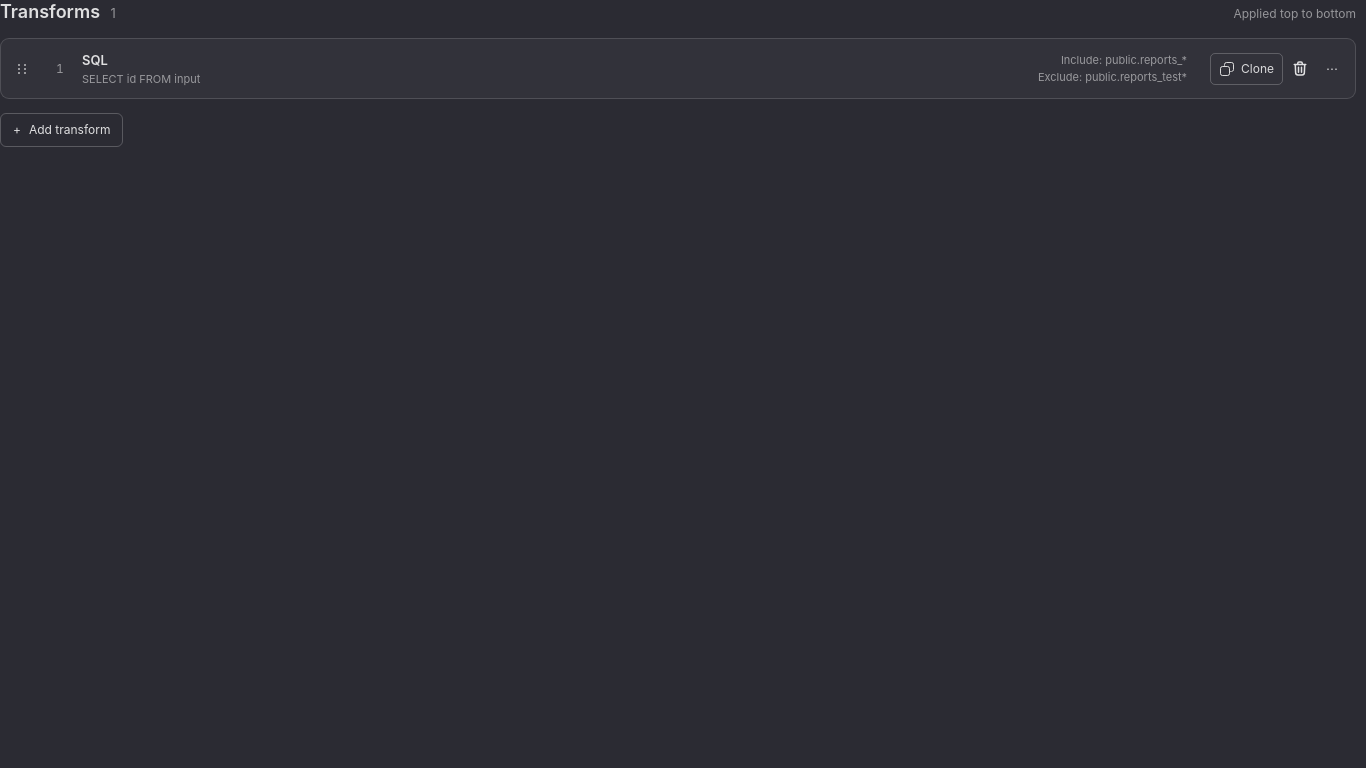
ordered transform strips › sets a name through the overflow menu without opening settings or changing the action
The image size is (1366, 768).
Click the button named "Actions for transform 1" at (1332, 69), box x1=1317 y1=53 x2=1347 y2=85
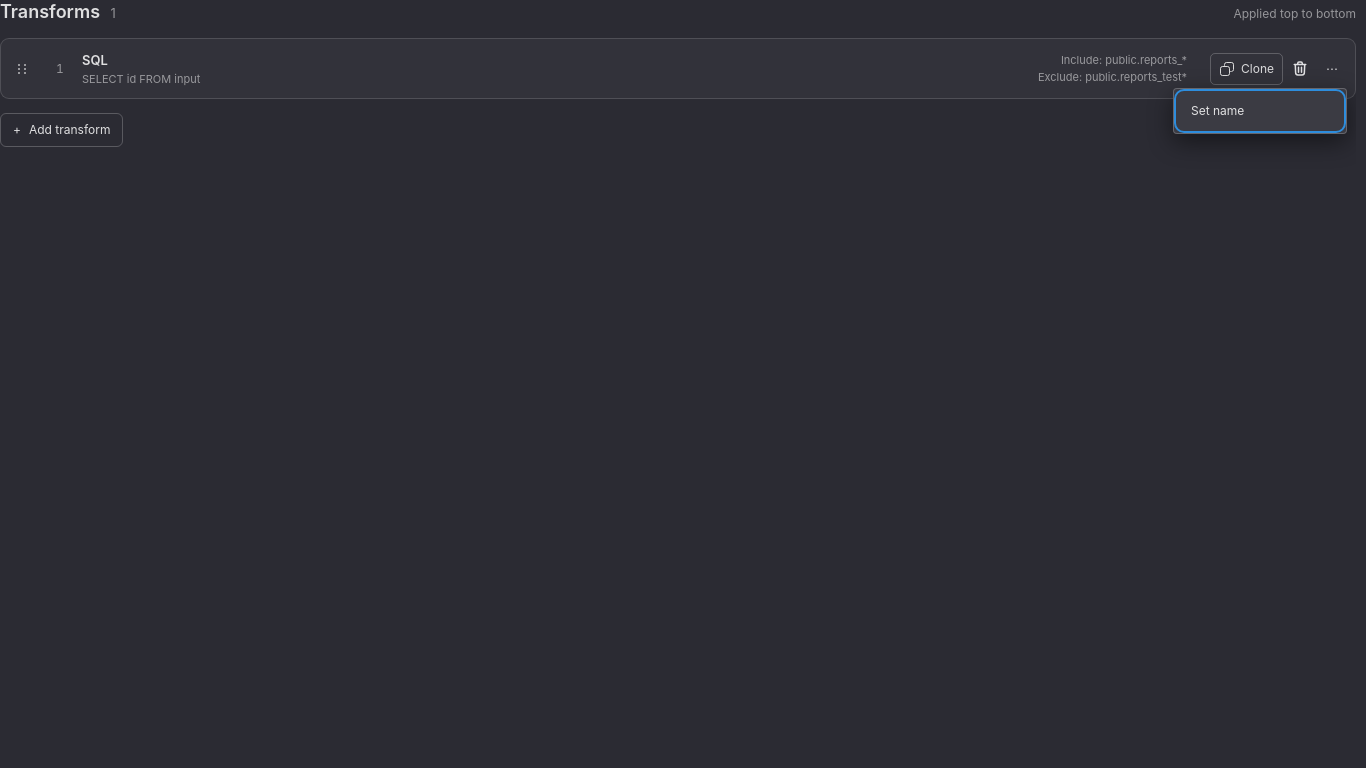
Click the menu item "Set name" at (1260, 111), box x1=1178 y1=93 x2=1342 y2=129
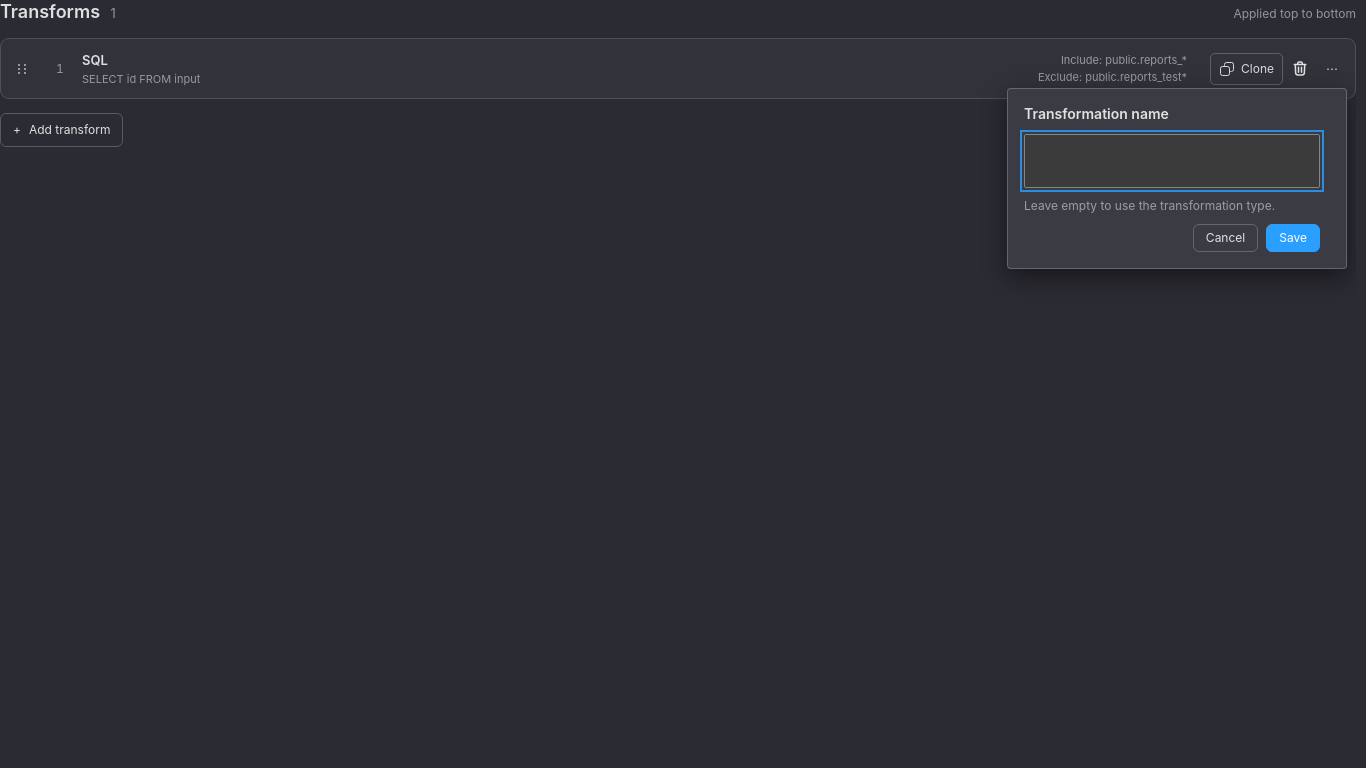
Type "  Подготовка событий  " into the text box labelled "Transformation name" at (1172, 161), box x1=1024 y1=134 x2=1320 y2=188
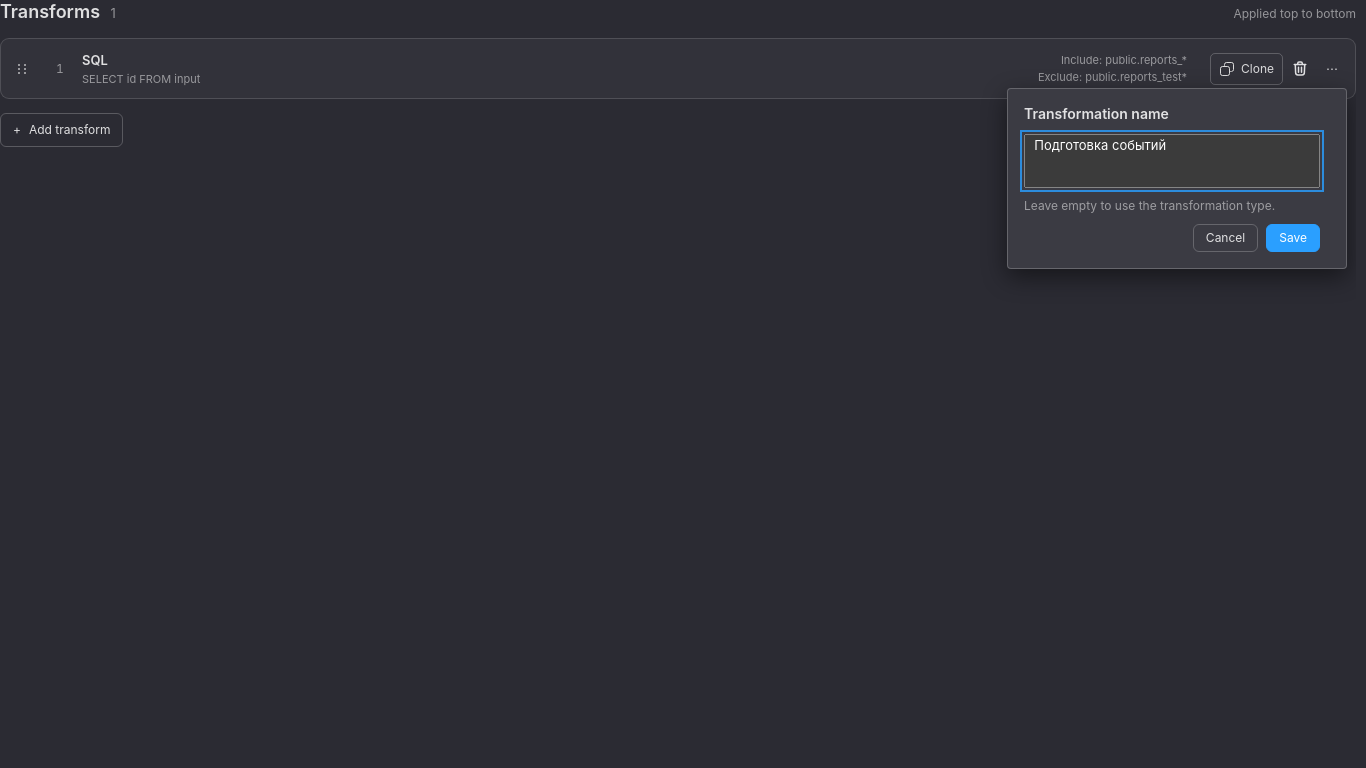
Click the button "Save" at (1293, 238), box x1=1266 y1=224 x2=1320 y2=252
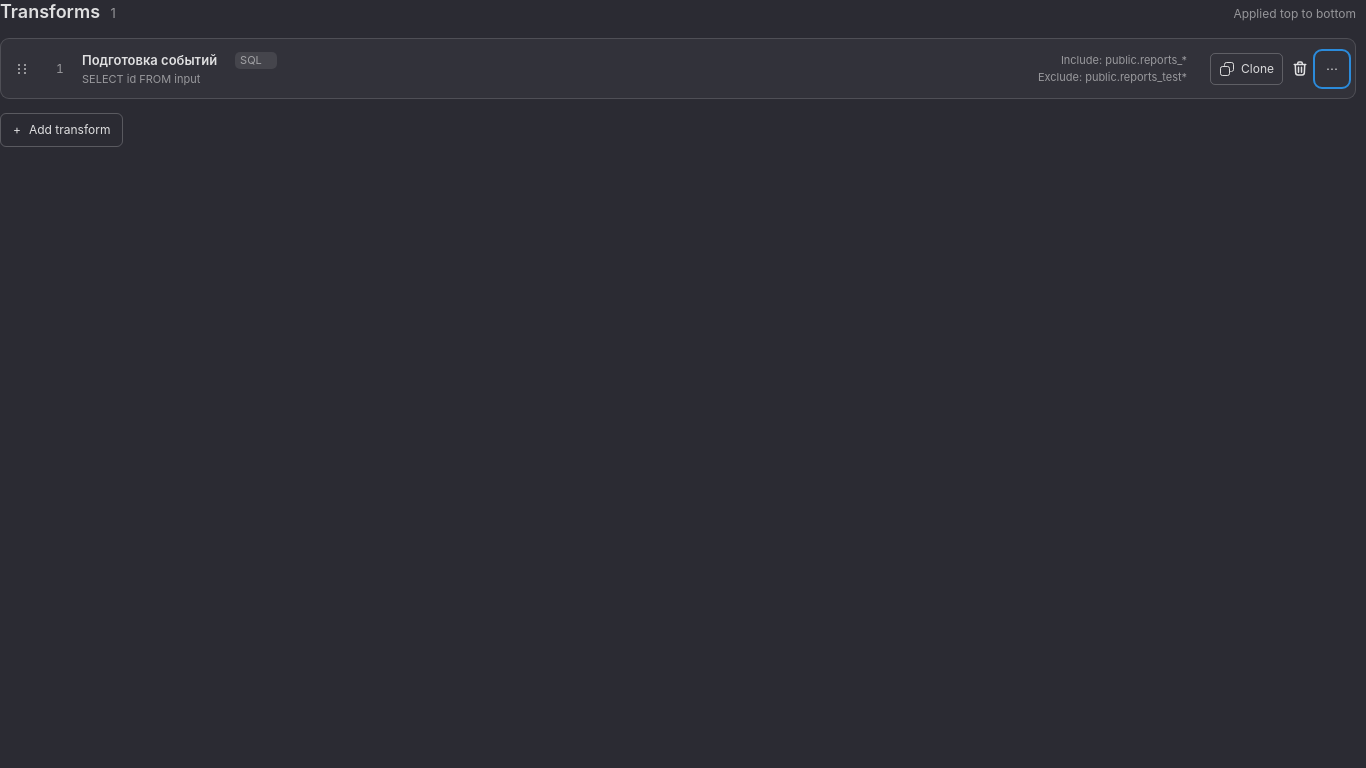
Expected: the text with class "middleware-strip-type" reads "SQL", x1=240 y1=53 x2=262 y2=67
Expected: the text with class "middleware-strip-title" reads "Подготовка событий", x1=82 y1=52 x2=217 y2=68
Expected: the dialog is gone
Click the button with aria-label "Expand transform 1" at (150, 60), box x1=41 y1=39 x2=1206 y2=98
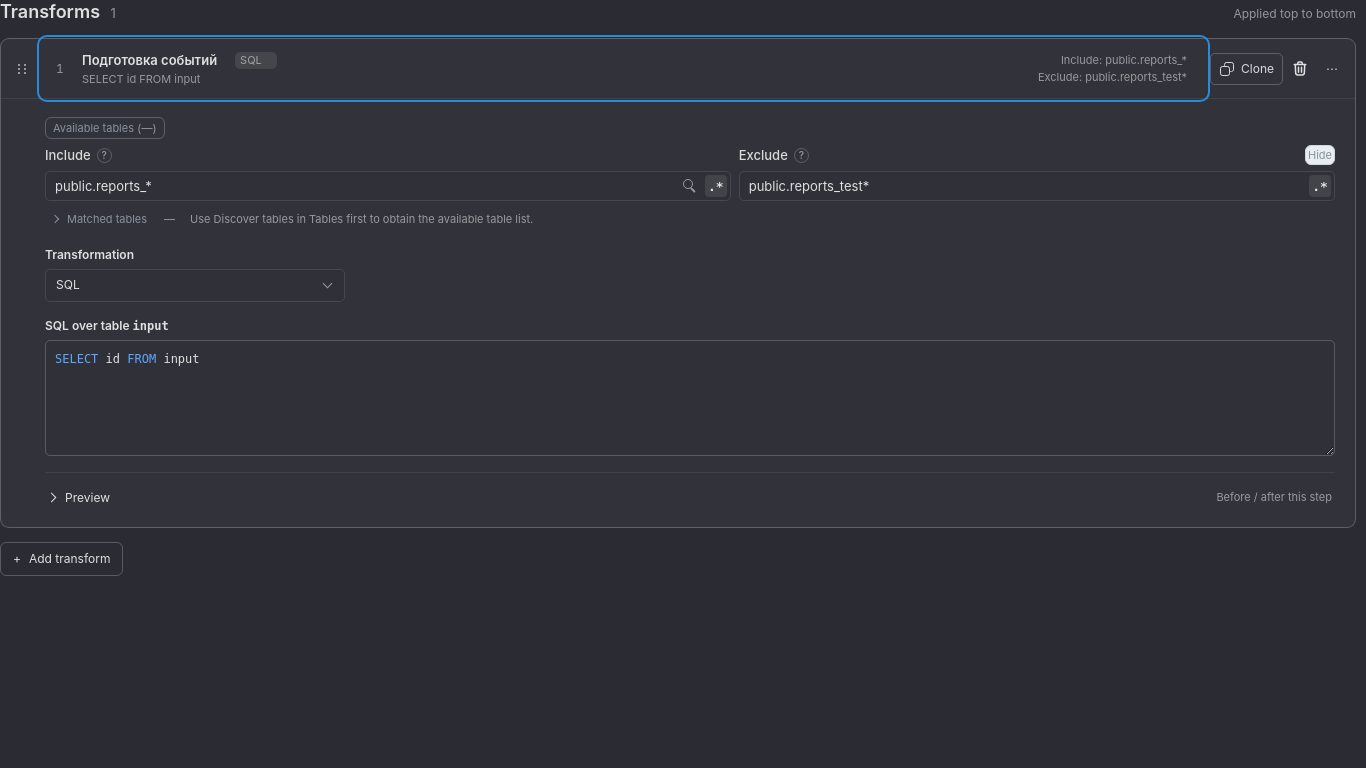
Expected: the text box showing "SELECT id FROM input" is shown, x1=45 y1=340 x2=1335 y2=456
